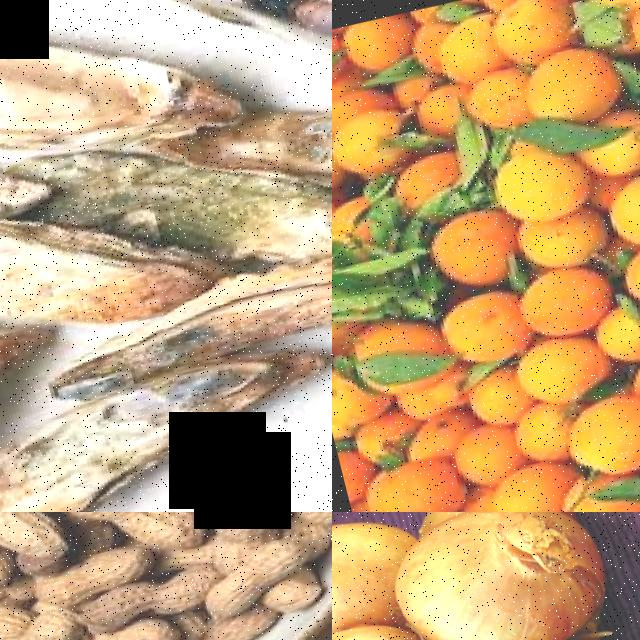onion: (381, 512, 613, 640), (332, 512, 408, 640)
orange: (510, 38, 624, 133), (508, 256, 616, 343), (489, 137, 592, 225), (508, 327, 614, 410), (427, 202, 522, 290), (558, 382, 640, 483), (434, 284, 529, 368), (365, 447, 469, 512), (488, 0, 588, 63), (432, 13, 507, 85), (332, 105, 408, 176), (459, 359, 534, 429), (487, 455, 573, 512), (596, 295, 640, 367), (602, 169, 640, 248), (618, 241, 640, 307), (332, 137, 342, 197)
oysters: (0, 334, 332, 512), (0, 0, 232, 218), (0, 165, 215, 374)
peanuts: (191, 532, 312, 619), (76, 565, 198, 634), (29, 541, 151, 609), (120, 512, 212, 556), (0, 512, 68, 567), (7, 596, 86, 640), (204, 512, 292, 550), (0, 590, 31, 640)
